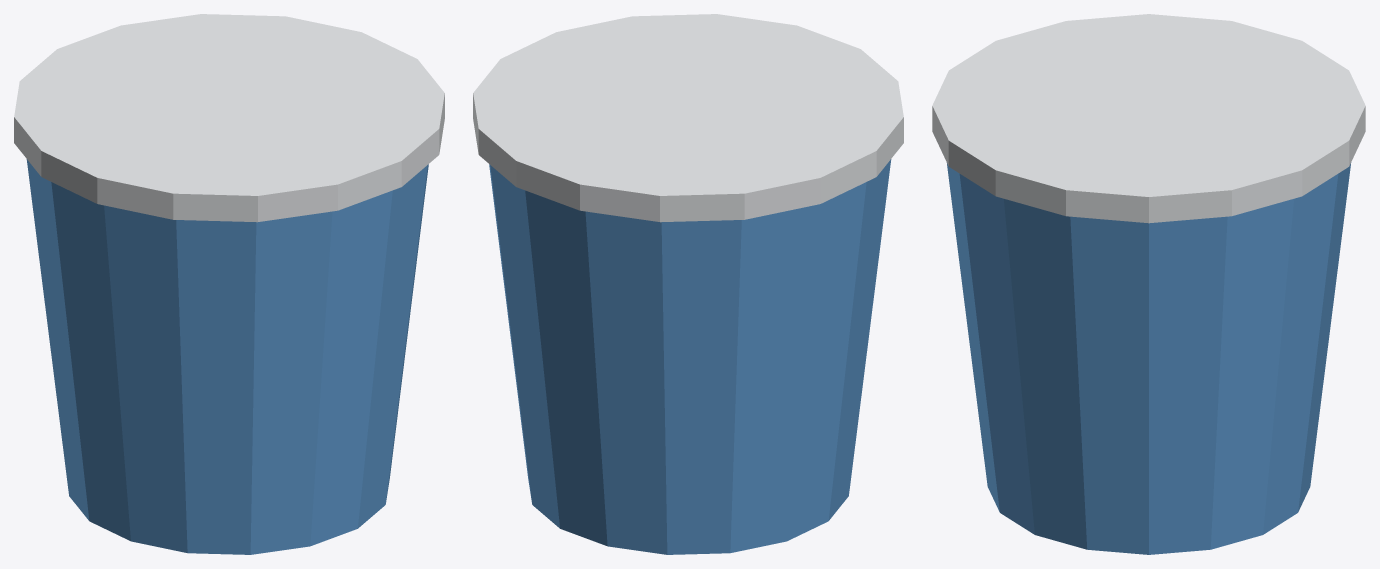
File: Prop_Bucket.glb
3 renders of one model, left to right at view 1: azimuth 30°, elevation 25°; view 2: azimuth 150°, elevation 25°; view 3: azimuth 270°, elevation 25°, orthographic.
Parts seen in each view (by area): view 1: Body, Rim; view 2: Body, Rim; view 3: Body, Rim.
Boxes of the visible parts, x1,y1,x2,y2 form: Body: [26, 159, 428, 554]; Rim: [14, 14, 444, 222]; Body: [489, 159, 891, 554]; Rim: [473, 14, 903, 222]; Body: [946, 162, 1351, 554]; Rim: [932, 14, 1365, 223].
Size of the model in its own units: 0.376 by 0.365 by 0.376.
